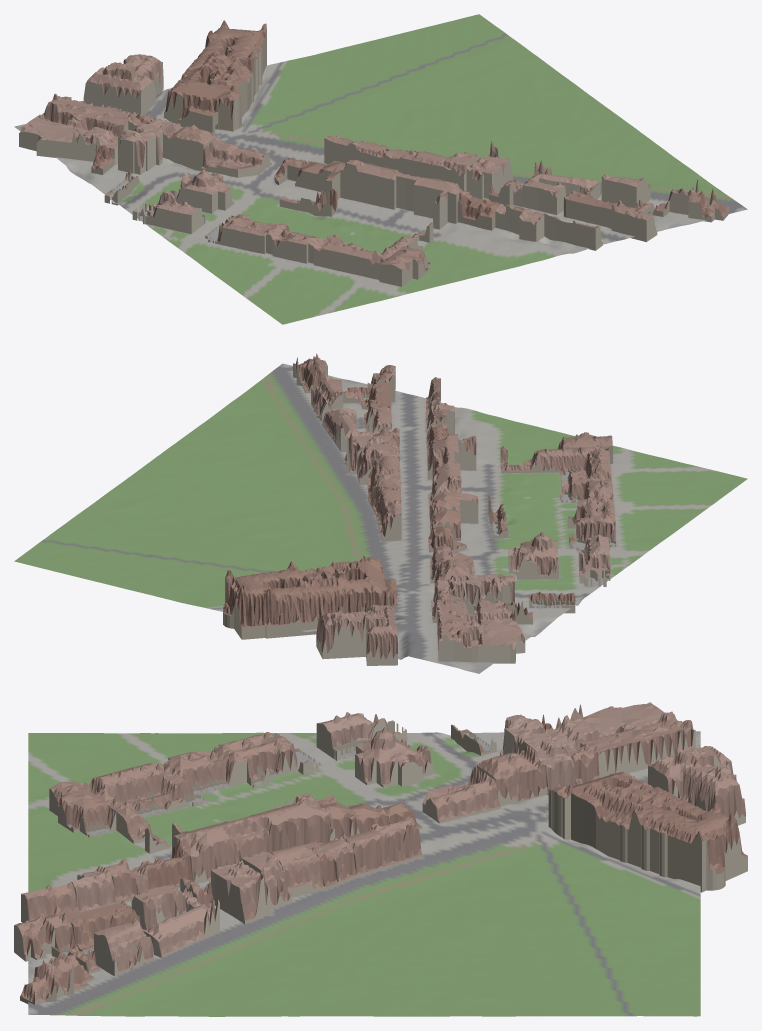
3 views of the same model, one above another, from view 1: azimuth 30°, elevation 25°; view 2: azimuth 150°, elevation 25°; view 3: azimuth 270°, elevation 25° (orthographic). The views are drawn at different scales.
Visible parts, largest first — view 1: ground, b:way/970372393, b:way/13221601, b:way/191546287, b:way/135789461, b:way/227825138, b:way/191546285, b:way/191546264, b:way/191546281, b:way/13221412, b:way/13221455, b:way/191546290 (+18 smaller); view 2: ground, b:way/970372393, b:way/13221601, b:way/135789461, b:way/227825138, b:way/191546287, b:way/191546285, b:way/191546264, b:way/13221455, b:way/13221412, b:way/137151163, b:way/137151155 (+14 smaller); view 3: ground, b:way/970372393, b:way/13221601, b:way/191546287, b:way/135789461, b:way/191546285, b:way/13221455, b:way/137151163, b:way/137151152, b:way/227825138, b:way/191546264, b:way/191546290 (+23 smaller).
Part boxes in pixels (x1,y1,x2,y2): ground: [14, 14, 747, 324]; b:way/970372393: [164, 20, 266, 133]; b:way/13221601: [205, 214, 433, 279]; b:way/191546287: [340, 159, 469, 229]; b:way/135789461: [83, 54, 163, 115]; b:way/227825138: [19, 116, 117, 164]; b:way/191546285: [38, 93, 136, 136]; b:way/191546264: [118, 119, 179, 174]; b:way/191546281: [201, 136, 271, 177]; b:way/13221412: [132, 191, 205, 233]; b:way/13221455: [170, 169, 234, 213]; b:way/191546290: [163, 124, 217, 170]; ground: [14, 363, 747, 673]; b:way/970372393: [223, 556, 397, 639]; b:way/13221601: [500, 445, 616, 550]; b:way/135789461: [316, 604, 397, 665]; b:way/227825138: [474, 600, 525, 663]; b:way/191546287: [427, 434, 476, 513]; b:way/191546285: [437, 600, 477, 662]; b:way/191546264: [431, 574, 514, 614]; b:way/13221455: [508, 532, 558, 579]; b:way/13221412: [578, 535, 610, 586]; b:way/137151163: [375, 489, 401, 541]; b:way/137151155: [322, 408, 369, 451]; ground: [28, 731, 700, 1016]; b:way/970372393: [548, 771, 747, 892]; b:way/13221601: [80, 732, 320, 853]; b:way/191546287: [172, 793, 334, 883]; b:way/135789461: [648, 746, 745, 825]; b:way/191546285: [580, 711, 695, 777]; b:way/13221455: [355, 727, 432, 787]; b:way/137151163: [343, 816, 422, 877]; b:way/137151152: [211, 860, 272, 923]; b:way/227825138: [547, 702, 664, 752]; b:way/191546264: [500, 714, 575, 795]; b:way/191546290: [477, 746, 547, 805].
Size of the model in its own units: 258 by 25.93 by 273.
